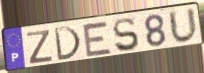8: (142, 13, 167, 48)
D: (53, 26, 83, 62)
E: (81, 20, 114, 59)
S: (112, 17, 141, 54)
U: (167, 6, 200, 45)
Z: (26, 29, 54, 66)
